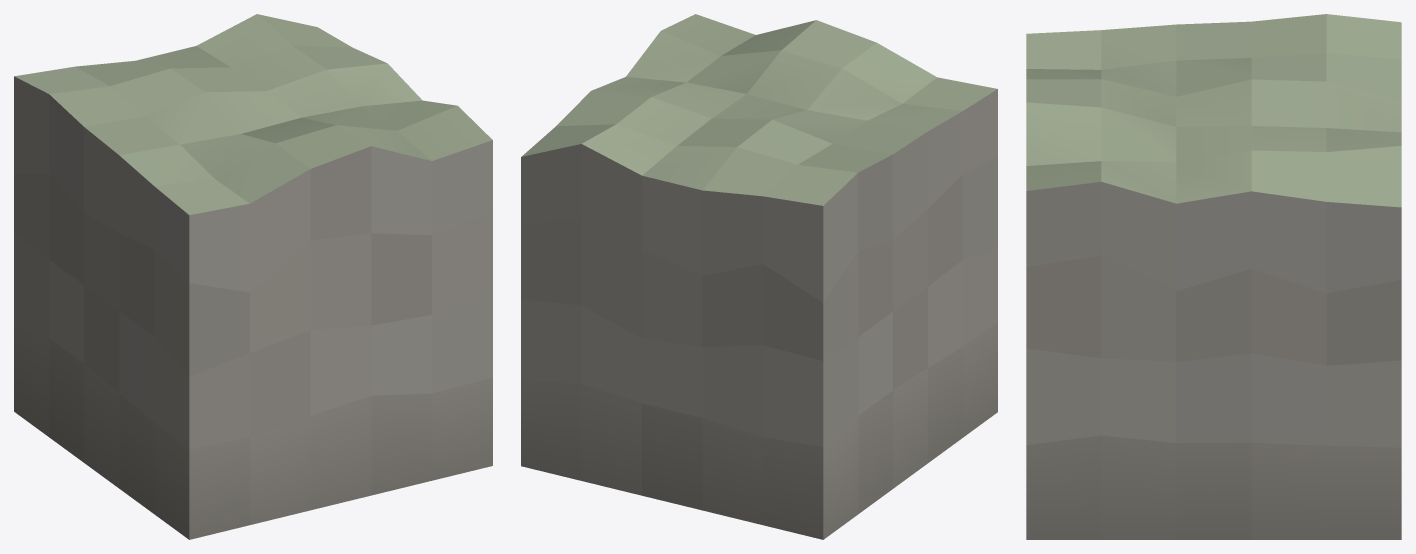
Rendered from roca_relleno.glb.
3 renders of one model, left to right at view 1: azimuth 30°, elevation 25°; view 2: azimuth 150°, elevation 25°; view 3: azimuth 270°, elevation 25°, orthographic. The views are drawn at different scales.
Visible parts, largest first — view 1: propforge-cuartos-roca_relleno; view 2: propforge-cuartos-roca_relleno; view 3: propforge-cuartos-roca_relleno.
Boxes of the visible parts, x1=… form: propforge-cuartos-roca_relleno: x1=14, y1=14, x2=492, y2=539; propforge-cuartos-roca_relleno: x1=521, y1=14, x2=997, y2=539; propforge-cuartos-roca_relleno: x1=1026, y1=14, x2=1401, y2=539.
Bounding box in the file's own units: 1 × 1.1 × 1.
